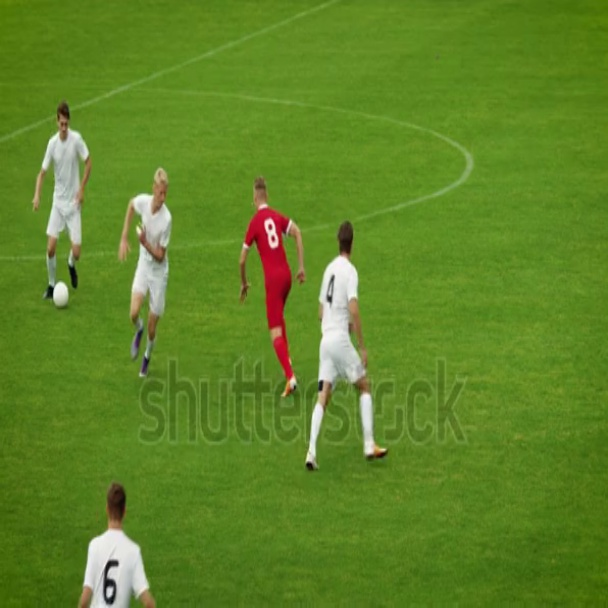ball: (53, 280, 71, 310)
